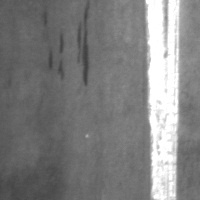inclusion: (72, 0, 93, 88), (46, 26, 67, 84)
scratches: (144, 0, 183, 199)
